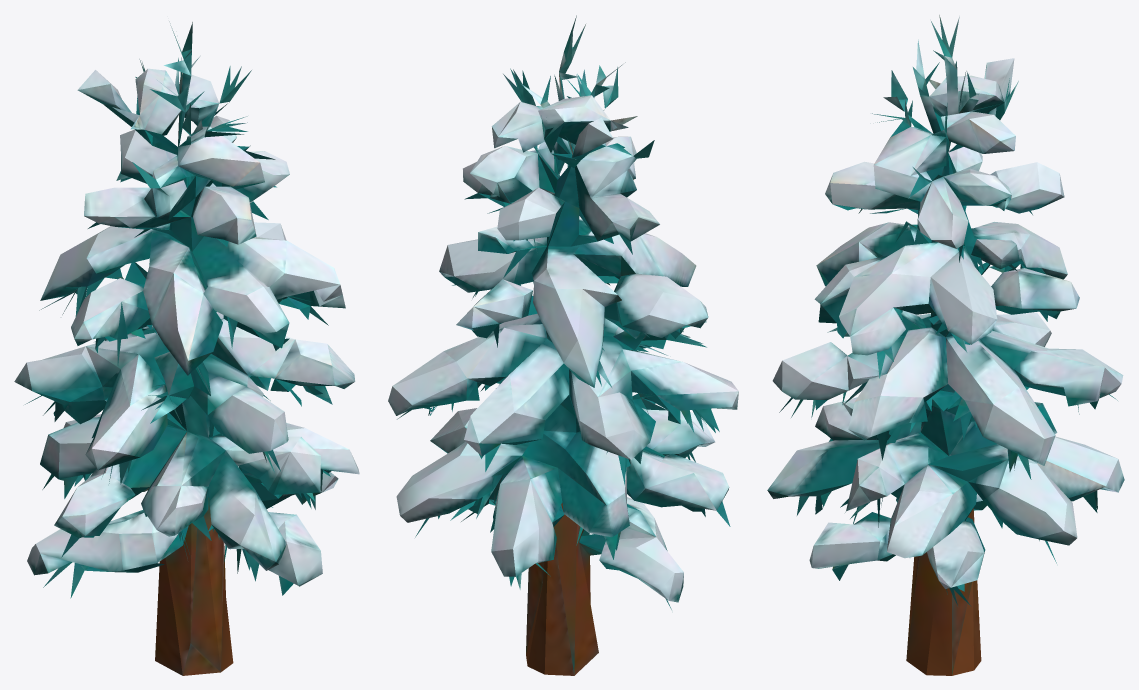
File: pine.glb
3 renders of one model, left to right at view 1: azimuth 30°, elevation 25°; view 2: azimuth 150°, elevation 25°; view 3: azimuth 270°, elevation 25°, orthographic.
Size of the model in its own units: 0.9109 by 1.89 by 0.9585.
1 material, 1 textured.
